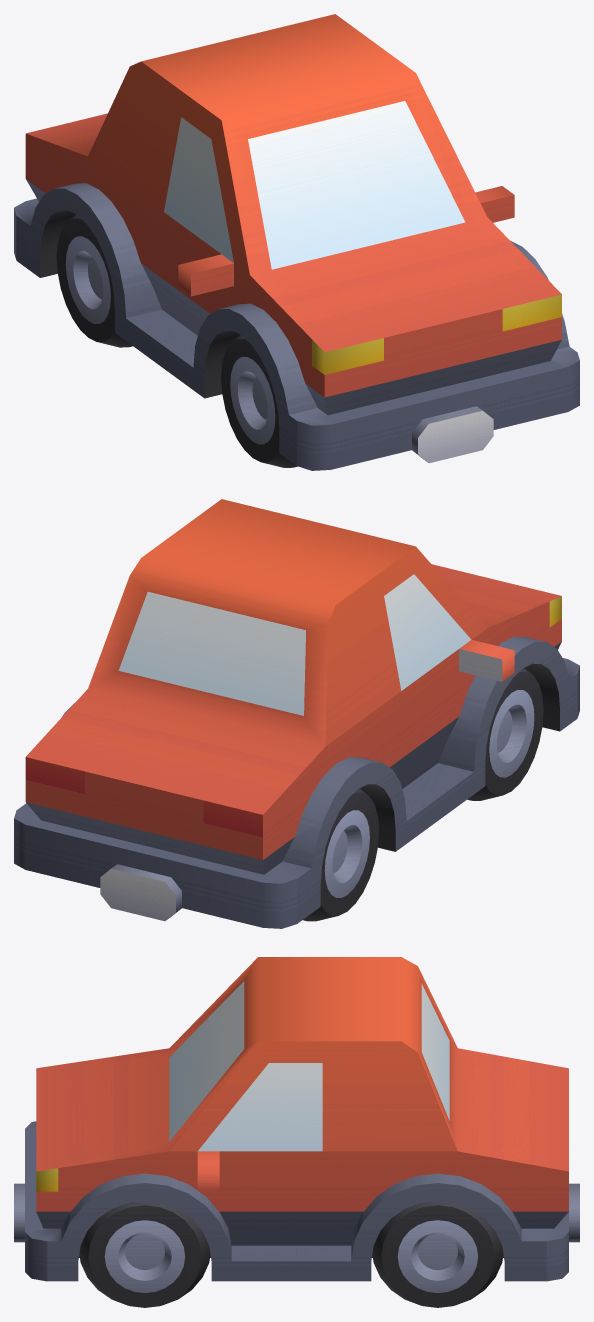
File: car2.glb
The picture shows the model from 3 angles, top to bottom: view 1: azimuth 30°, elevation 25°; view 2: azimuth 150°, elevation 25°; view 3: azimuth 270°, elevation 25°; orthographic projection. The views are drawn at different scales.
Parts seen in each view (by area): view 1: body, wheel-back-right, wheel-front-right; view 2: body, wheel-back-right, wheel-front-right; view 3: body, wheel-back-left, wheel-front-left.
Boxes of the visible parts, x1,y1,x2,y2 form: body: (14,14,579,470); wheel-back-right: (56,214,132,347); wheel-front-right: (221,335,297,467); body: (14,499,579,928); wheel-back-right: (303,788,378,921); wheel-front-right: (467,668,543,800); body: (14,957,579,1281); wheel-back-left: (372,1201,503,1307); wheel-front-left: (79,1201,210,1307).
Size of the model in its own units: 1.5 by 1.3 by 2.55.
1 material, 1 textured.
